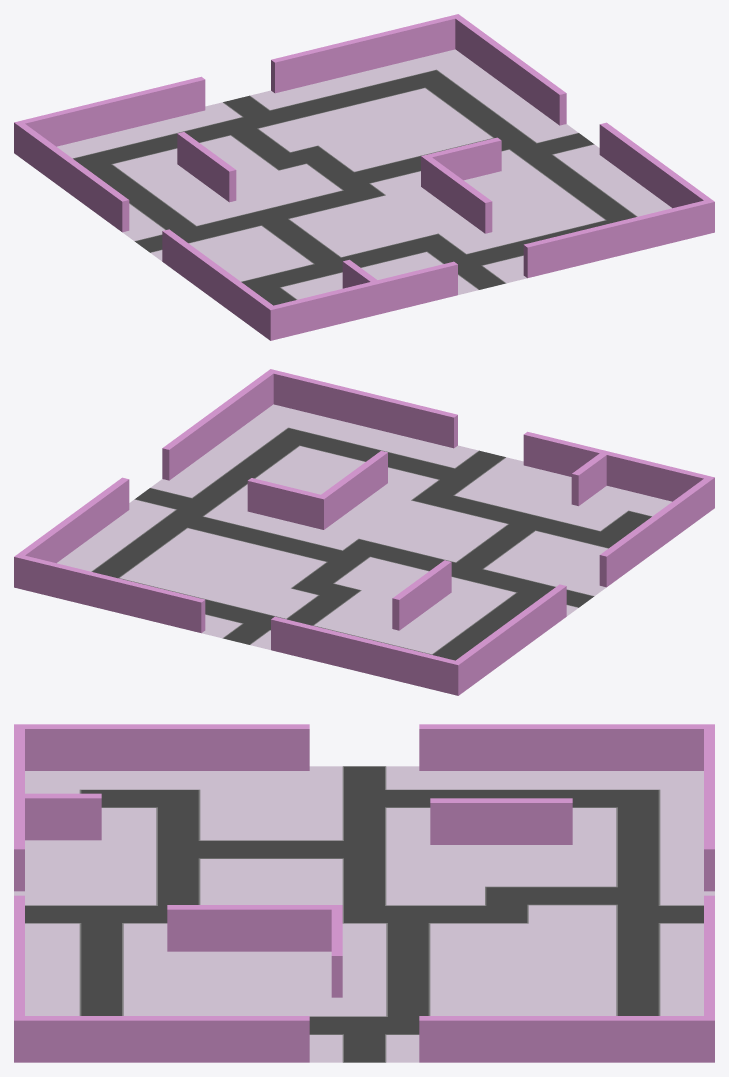
The model's file is Room3.fbx.
The picture shows the model from 3 angles, top to bottom: view 1: azimuth 30°, elevation 25°; view 2: azimuth 150°, elevation 25°; view 3: azimuth 270°, elevation 25°; orthographic projection. The views are drawn at different scales.
Visible parts, largest first — view 1: Plane; view 2: Plane; view 3: Plane.
Part boxes in pixels (box(x1,y1,x2,y2)): Plane: box(14, 14, 714, 340); Plane: box(14, 369, 714, 695); Plane: box(14, 724, 714, 1062).
Bounding box in the file's own units: 600 × 39.64 × 600.
